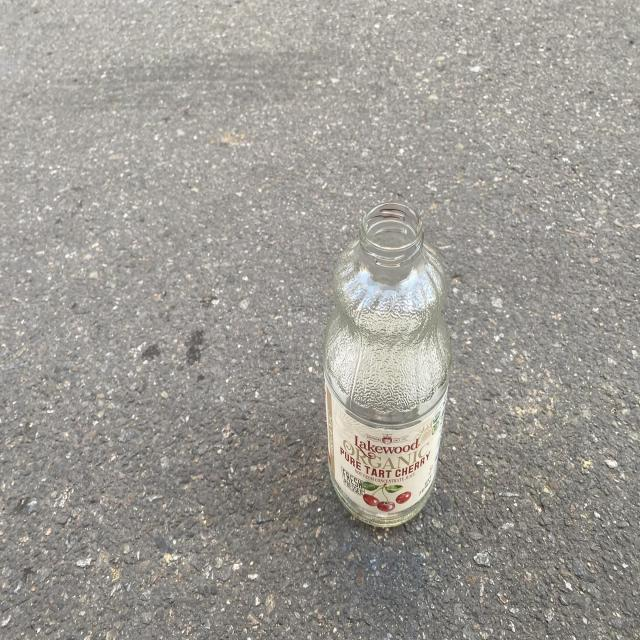glass: (324, 202, 452, 527)
